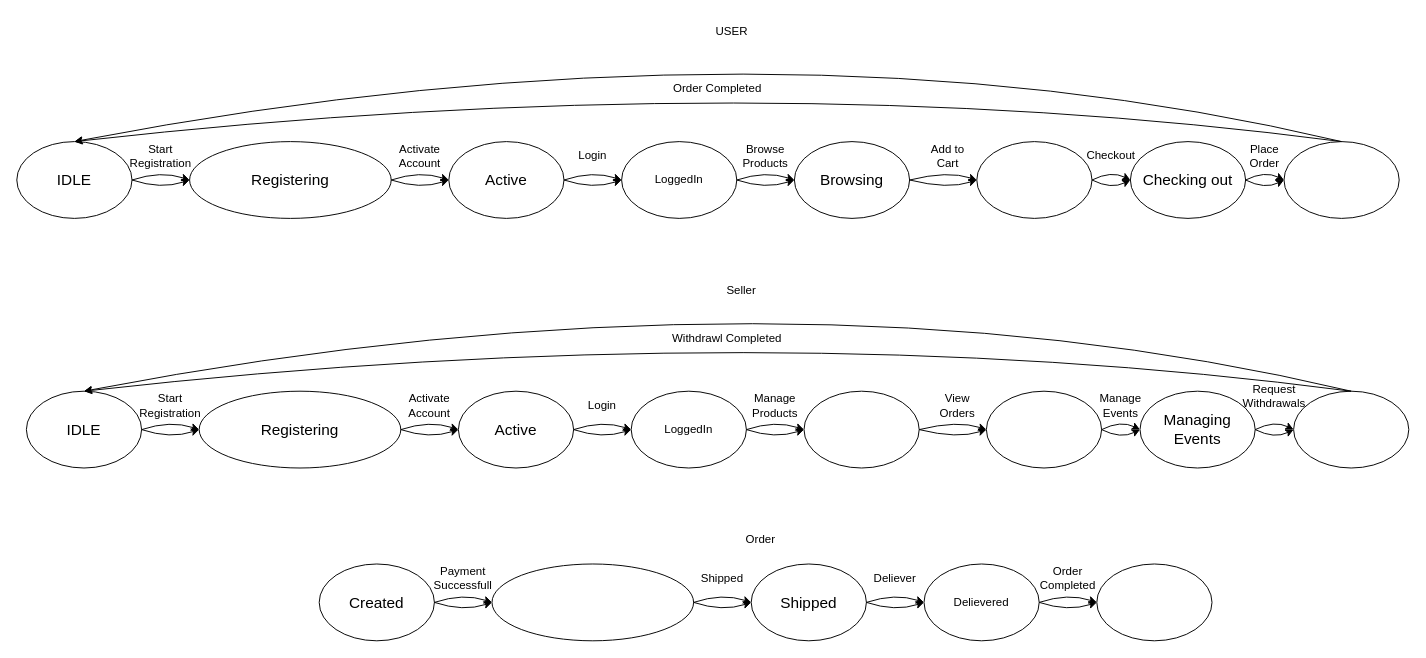
This 1426x658 diagram has some shape labels left out. Each missing label, with the centre of its shape:
"Adding to cart" goes at (1034,179).
"Completed" goes at (1154,602).
"Managing Orders" goes at (1043,429).
"Managing Products" goes at (861,429).
"Paid" goes at (592,602).
"Request Withdrawla" goes at (1351,429).
"Tracking Order" goes at (1341,179).
